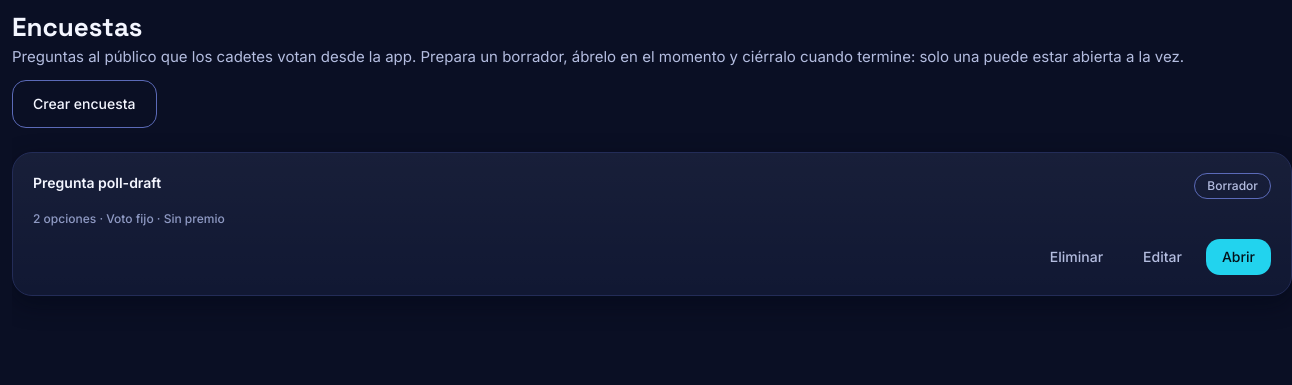
Scenario: PollsAdminView › opens a draft and says so, or shows the server's refusal
This screenshot has width=1292, height=385.
Click the button "Abrir": (1238, 257) [1206, 239, 1271, 275]
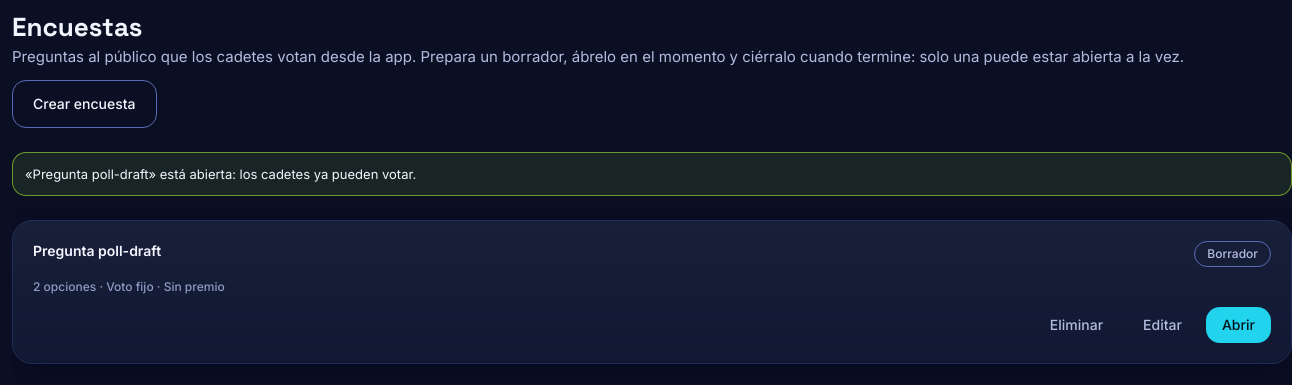
Click the button "Abrir": (1238, 325) [1206, 307, 1271, 343]
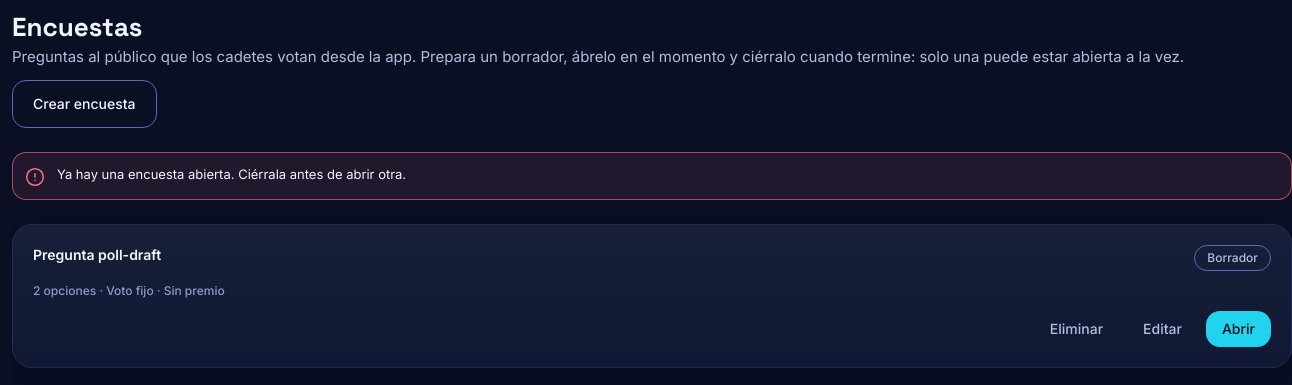
Expected: the message reads "Ya hay una encuesta abierta. Ciérrala antes de abrir otra.", [57, 166, 406, 182]
